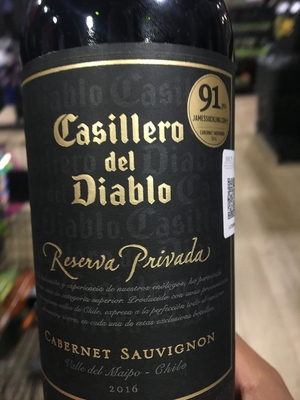casillero del diablo reserva privada cabernet sauvignon: (18, 4, 246, 400)
